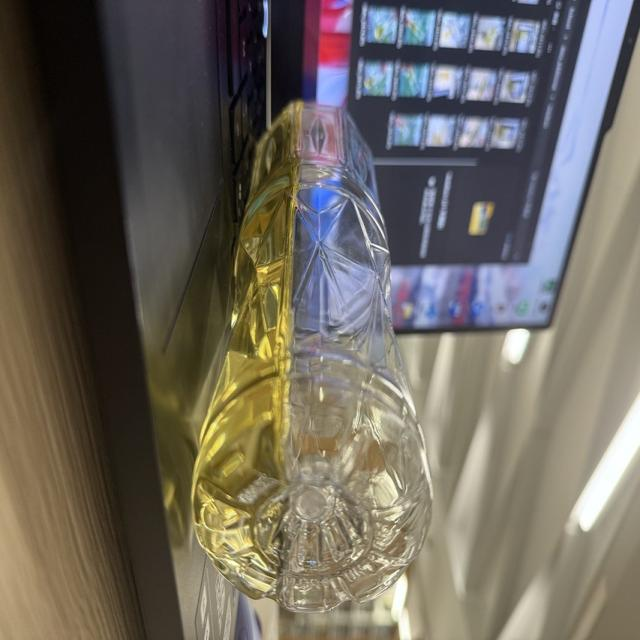low: (191, 102, 432, 610)
